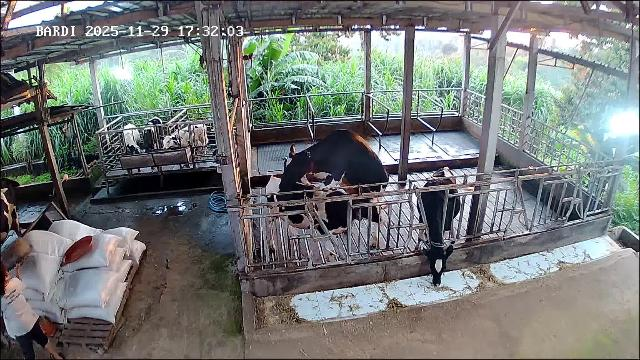mounting: (282, 128, 391, 234)
